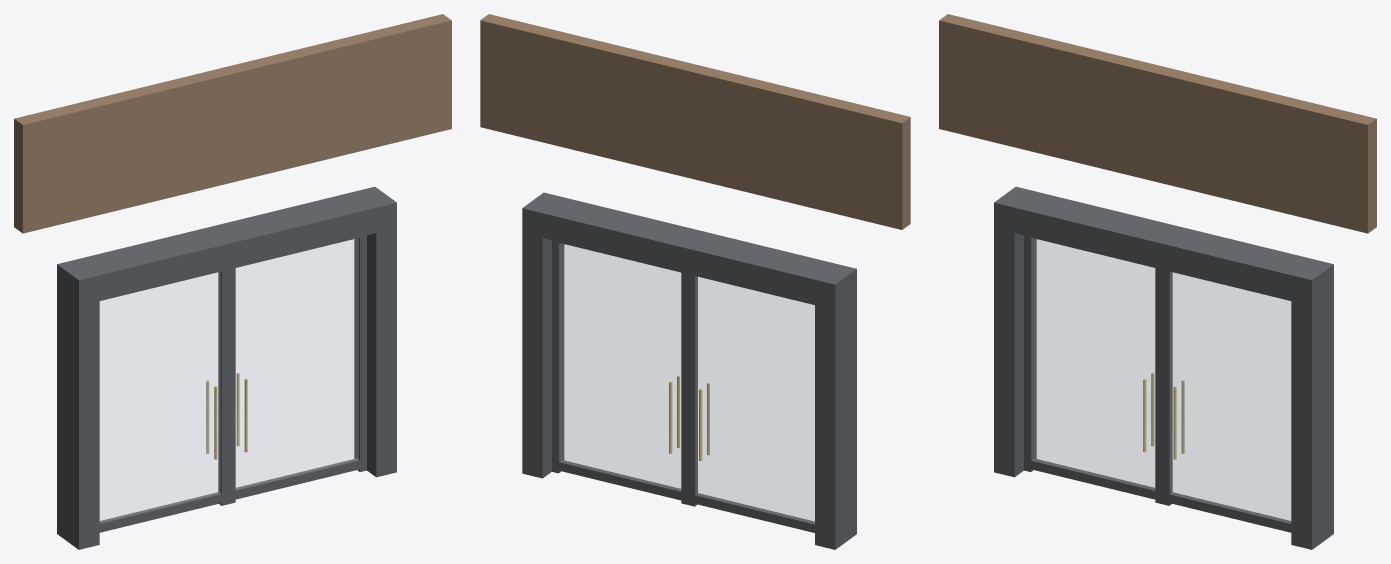
The model's file is gate.glb.
The picture shows the model from 3 angles, left to right: view 1: azimuth 30°, elevation 25°; view 2: azimuth 150°, elevation 25°; view 3: azimuth 330°, elevation 25°; orthographic projection.
Parts seen in each view (by area): view 1: doorglass (×2), walnut, c23262a_0.4_0.4 (×3), cc9a24a_0.25_0.8 (×2); view 2: doorglass (×2), walnut, c23262a_0.4_0.4 (×3); view 3: doorglass (×2), walnut, c23262a_0.4_0.4 (×3), cc9a24a_0.25_0.8 (×2).
Part boxes in pixels (x1,y1,x2,y2): doorglass (×2): (100, 238, 358, 522); walnut: (14, 14, 451, 233); c23262a_0.4_0.4 (×3): (57, 186, 396, 549); cc9a24a_0.25_0.8 (×2): (206, 372, 247, 459); doorglass (×2): (560, 243, 814, 523); walnut: (480, 14, 910, 229); c23262a_0.4_0.4 (×3): (522, 192, 856, 549); doorglass (×2): (1032, 238, 1290, 522); walnut: (939, 14, 1376, 233); c23262a_0.4_0.4 (×3): (994, 186, 1333, 549); cc9a24a_0.25_0.8 (×2): (1143, 372, 1184, 459).
Size of the model in its own units: 6.2 by 6.05 by 0.55.
